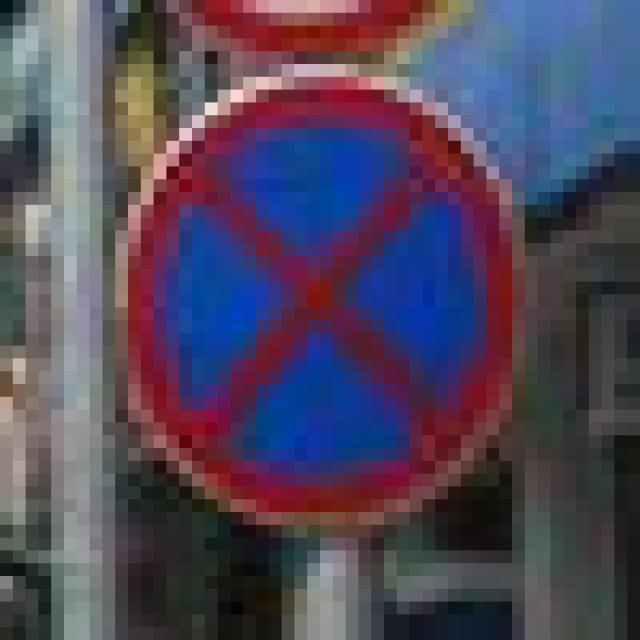no stopping or standing: (120, 70, 516, 523)
